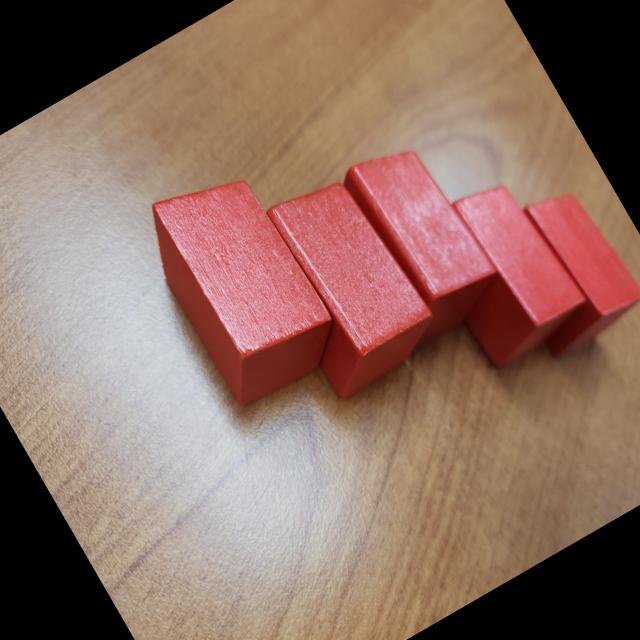red: (130, 154, 352, 414), (238, 164, 449, 404), (315, 128, 513, 352), (410, 166, 598, 374), (479, 174, 640, 362)
